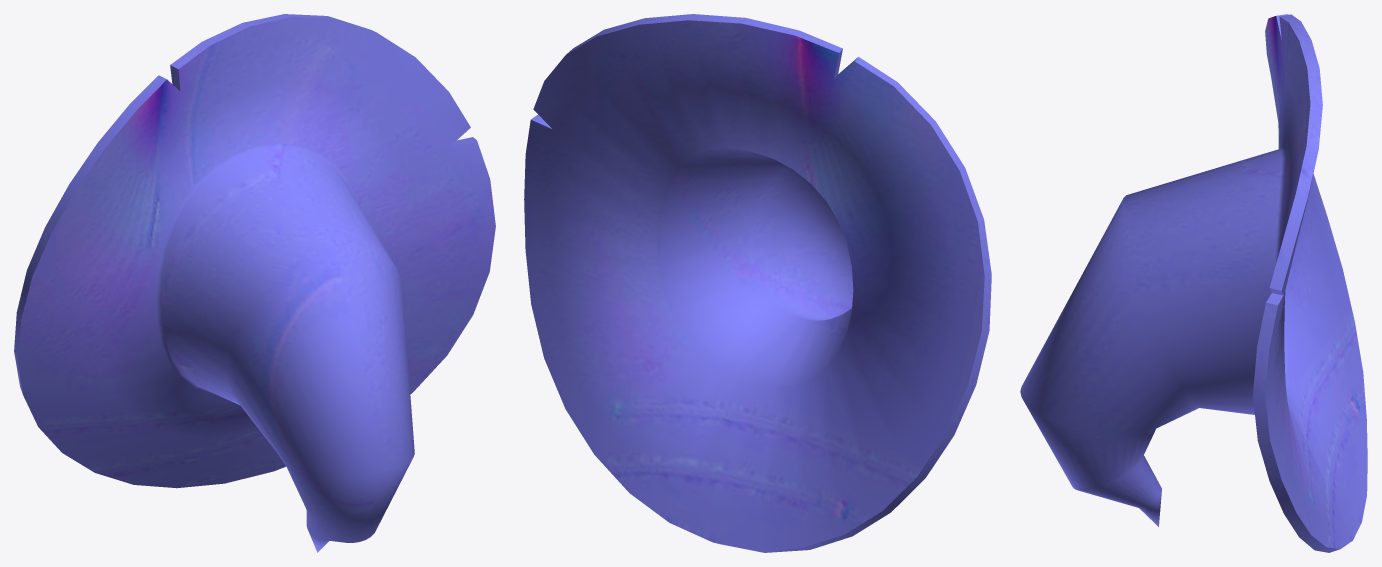
Rendered from Headwear43.glb.
3 views of the same model, side by side, from view 1: azimuth 30°, elevation 25°; view 2: azimuth 150°, elevation 25°; view 3: azimuth 270°, elevation 25° (orthographic). The views are drawn at different scales.
Parts seen in each view (by area): view 1: Headwear43; view 2: Headwear43; view 3: Headwear43.
Part boxes in pixels (left/top/right/bottom): Headwear43: left=14, top=14, right=495, bottom=552; Headwear43: left=524, top=14, right=991, bottom=552; Headwear43: left=1020, top=14, right=1367, bottom=552.
Bounding box in the file's own units: 4.09 × 4.1 × 2.65.
Materials: 1 (1 with a texture image).
